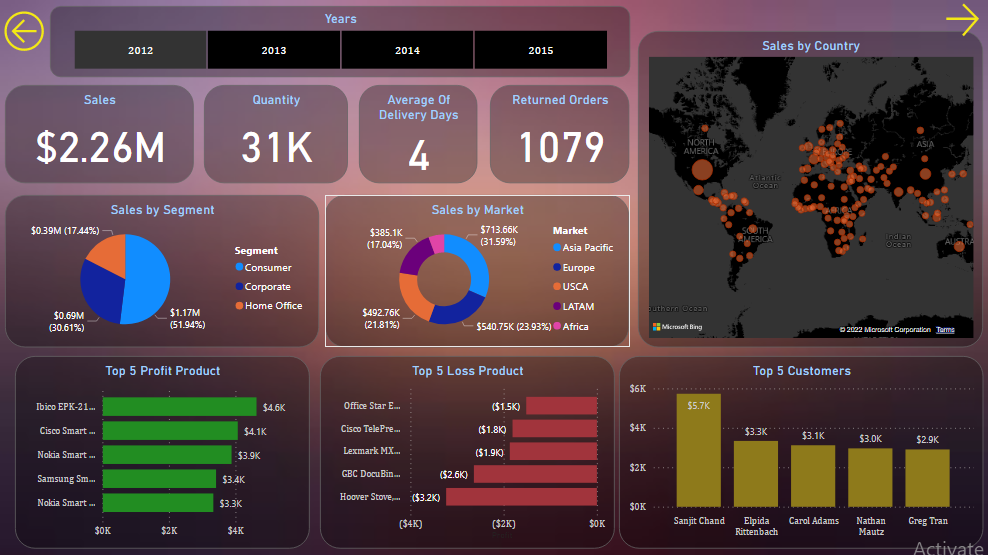

What the dashboard file says about the page in this screenshot:
{"tool":"powerbi","page":{"name":"Page 1","canvas":[1280,720],"ordinal":1},"visuals":[{"type":"card","title":"Sales","fields":{"Values":["Orders.Sales"]},"box":[8.3,111.5,243.6,126.6],"z":0},{"type":"card","title":"Quantity","fields":{"Values":["Orders.Quantity"]},"box":[265.6,111.5,185.8,126.6],"z":1000},{"type":"card","title":"Average Of Delivery Days","fields":{"Values":["Orders.Delivery Days"]},"box":[465.2,111.5,152.8,126.6],"z":2000},{"type":"slicer","title":"Years","fields":{"Values":["Orders.Year"]},"box":[65.3,8.5,749.8,92.3],"z":3000},{"type":"card","title":"Returned Orders","fields":{"Values":["Returns.Return Orders"]},"box":[634.5,111.5,180.3,126.6],"z":4000},{"type":"map","fields":{"Category":["Orders.Country"],"Size":["Orders.Sales"]},"box":[826.5,41.2,445.9,409],"z":5000},{"type":"clusteredBarChart","title":"Top 5 Profit Product","fields":{"Category":["Orders.Product Name"],"Y":["Orders.Profit"]},"box":[21.3,461.5,380.6,248.5],"z":6000},{"type":"clusteredBarChart","title":"Top 5 Loss Product","fields":{"Category":["Orders.Product Name"],"Y":["Orders.Profit"]},"box":[414.7,461.5,380.6,248.5],"z":7000},{"type":"pieChart","fields":{"Category":["Orders.Segment"],"Y":["Orders.Sales"]},"box":[8.3,252.9,406,196.8],"z":8000},{"type":"donutChart","fields":{"Y":["Orders.Sales"],"Category":["Orders.Market"]},"box":[421.8,252.8,393.4,197.4],"z":9000},{"type":"columnChart","title":"Top 5 Customers","fields":{"Category":["Orders.Customer Name"],"Y":["Orders.Profit"]},"box":[800.9,461.5,471.5,248.5],"z":10000},{"type":"actionButton","box":[0,8.5,65.3,65.3],"z":11000},{"type":"actionButton","box":[1217,0,55.4,54],"z":12000}]}

Visuals, with their boxes in screenshot pixels (x1, y1, x2, y2), scaled from the page's 1280x720 canvas onto the 988x555 screenshot:
"Sales" card: [6,86,194,184]
"Quantity" card: [205,86,348,184]
"Average Of Delivery Days" card: [359,86,477,184]
"Years" slicer: [50,7,629,78]
"Returned Orders" card: [490,86,629,184]
map - Orders.Country x Orders.Sales: [638,32,982,347]
"Top 5 Profit Product" clusteredBarChart: [16,356,310,547]
"Top 5 Loss Product" clusteredBarChart: [320,356,614,547]
pieChart - Orders.Segment x Orders.Sales: [6,195,320,347]
donutChart - Orders.Sales x Orders.Market: [326,195,629,347]
"Top 5 Customers" columnChart: [618,356,982,547]
actionButton: [0,7,50,57]
actionButton: [939,0,982,42]
